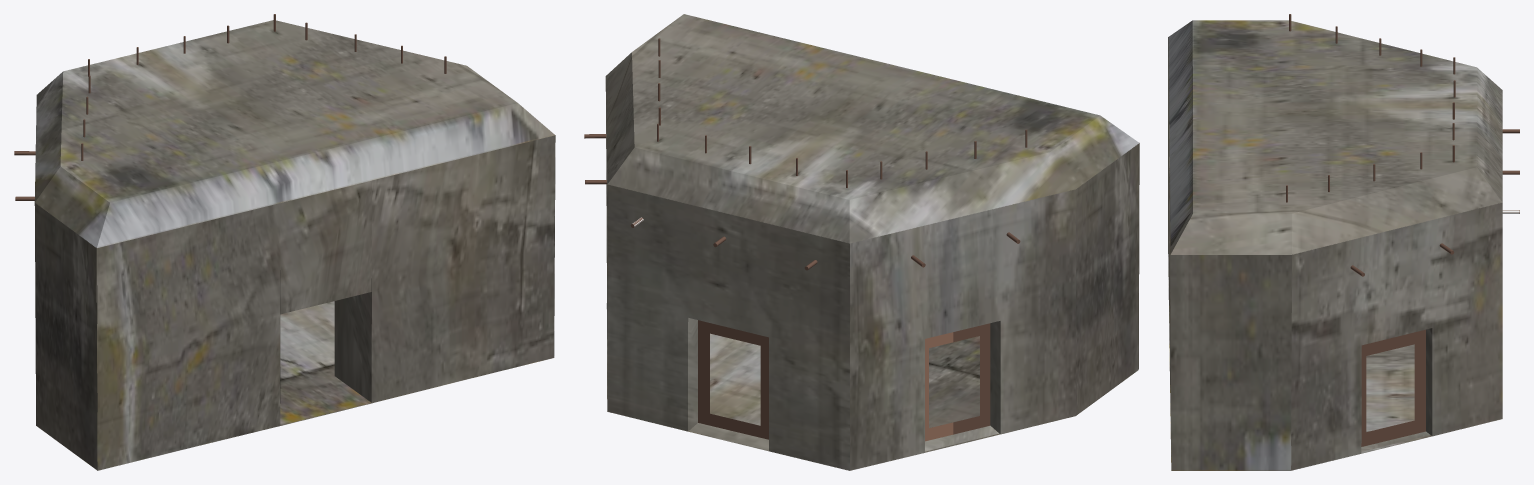
Rendered from bw-bunker.lod0.glb.
The picture shows the model from 3 angles, left to right: view 1: azimuth 30°, elevation 25°; view 2: azimuth 150°, elevation 25°; view 3: azimuth 270°, elevation 25°; orthographic projection. The views are drawn at different scales.
Visible parts, largest first — view 1: Cube.001_0, pin1_0; view 2: Cube.001_0, pin1_0, Cylinder.016_0; view 3: Cube.001_0, pin1_0.
Boxes of the visible parts, x1,y1,x2,y2 form: Cube.001_0: [34, 20, 555, 470]; pin1_0: [14, 14, 446, 200]; Cube.001_0: [605, 14, 1139, 470]; pin1_0: [584, 38, 1027, 439]; Cylinder.016_0: [632, 217, 953, 441]; Cube.001_0: [1168, 20, 1502, 470]; pin1_0: [1286, 14, 1519, 446].
Bounding box in the file's own units: 9 × 5.05 × 6.14.
Materials: 3 (2 with a texture image).
